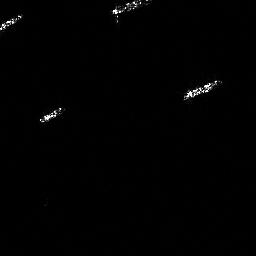ship: (180, 76, 226, 102), (109, 1, 151, 24), (35, 103, 69, 125), (1, 11, 25, 33)
